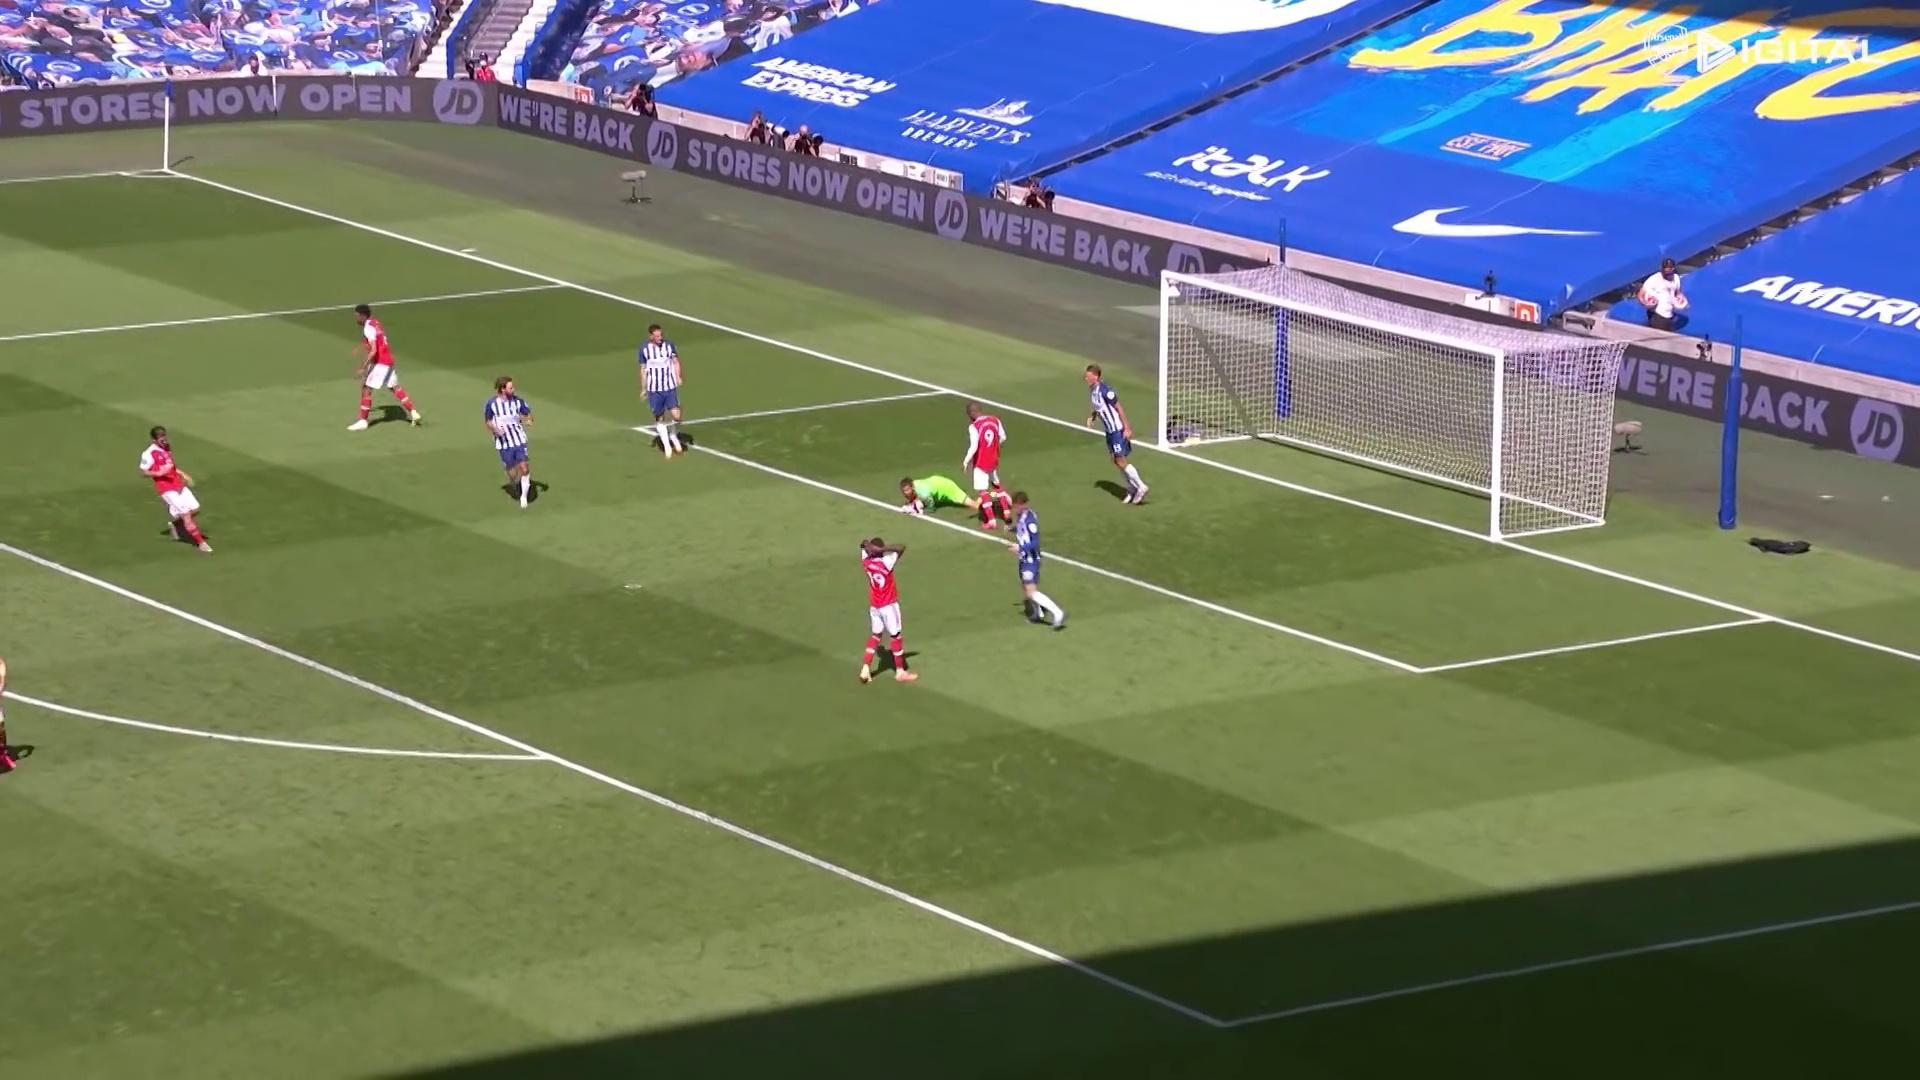ball: (911, 496, 927, 512)
